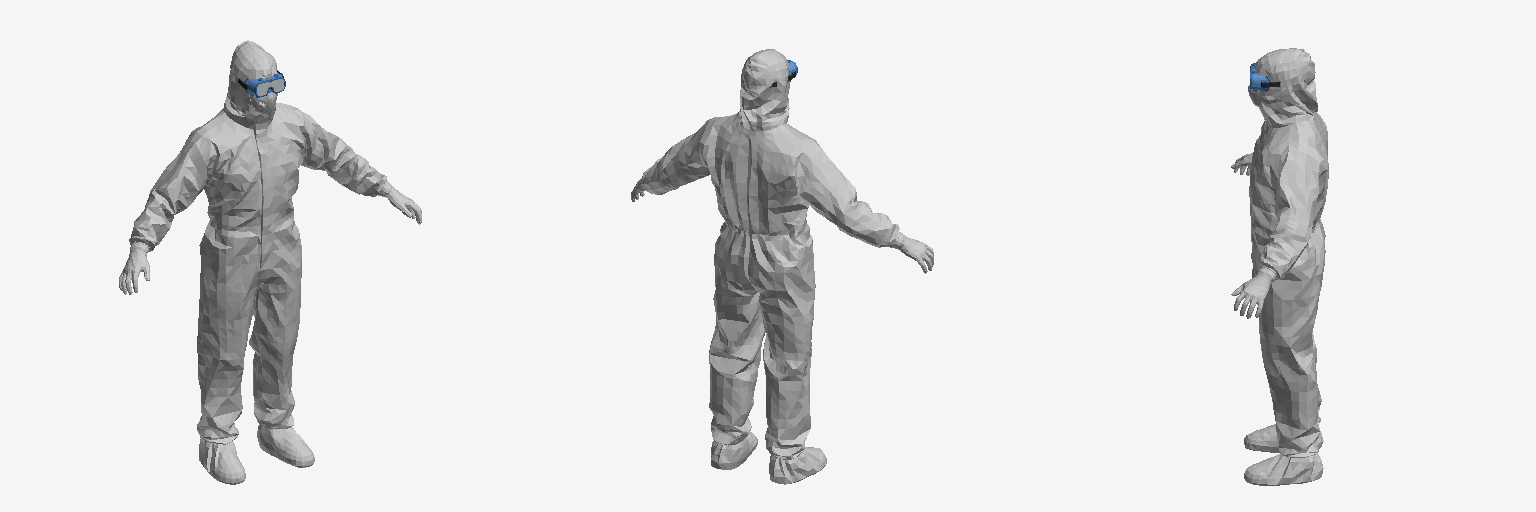
The picture shows the model from 3 angles: view 1: azimuth 30°, elevation 25°; view 2: azimuth 150°, elevation 25°; view 3: azimuth 270°, elevation 25°; orthographic projection.
Visible parts, largest first — view 1: mhsw_suit_v1, mhsw_goggles; view 2: mhsw_suit_v1; view 3: mhsw_suit_v1.
Boxes of the visible parts, x1,y1,x2,y2 form: mhsw_suit_v1: [119, 40, 421, 484]; mhsw_goggles: [238, 70, 285, 97]; mhsw_suit_v1: [631, 49, 933, 484]; mhsw_suit_v1: [1231, 48, 1328, 485].
Size of the model in its own units: 140 by 186 by 39.64.
Materials: 6 (2 with a texture image).